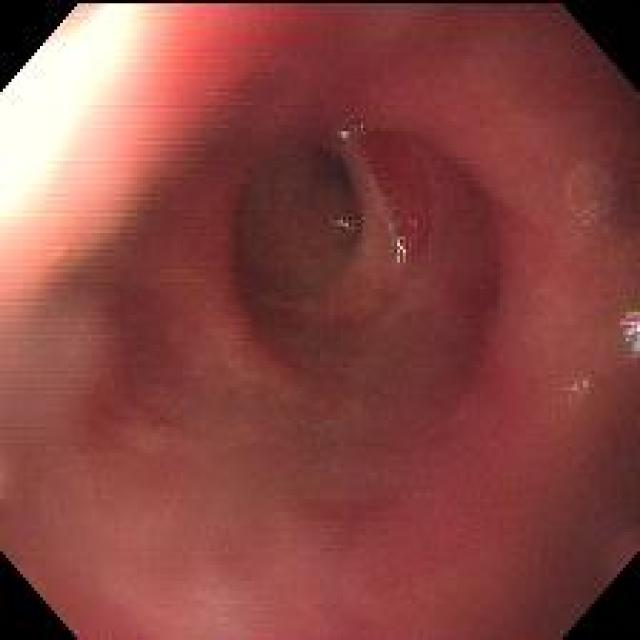blur: (4, 227, 634, 636)
color misalignment: (618, 312, 639, 358), (391, 237, 419, 265), (563, 381, 591, 408), (569, 203, 600, 227), (334, 219, 353, 233), (338, 130, 349, 141), (407, 219, 420, 228), (355, 127, 364, 130)
saturation: (2, 6, 141, 231)
